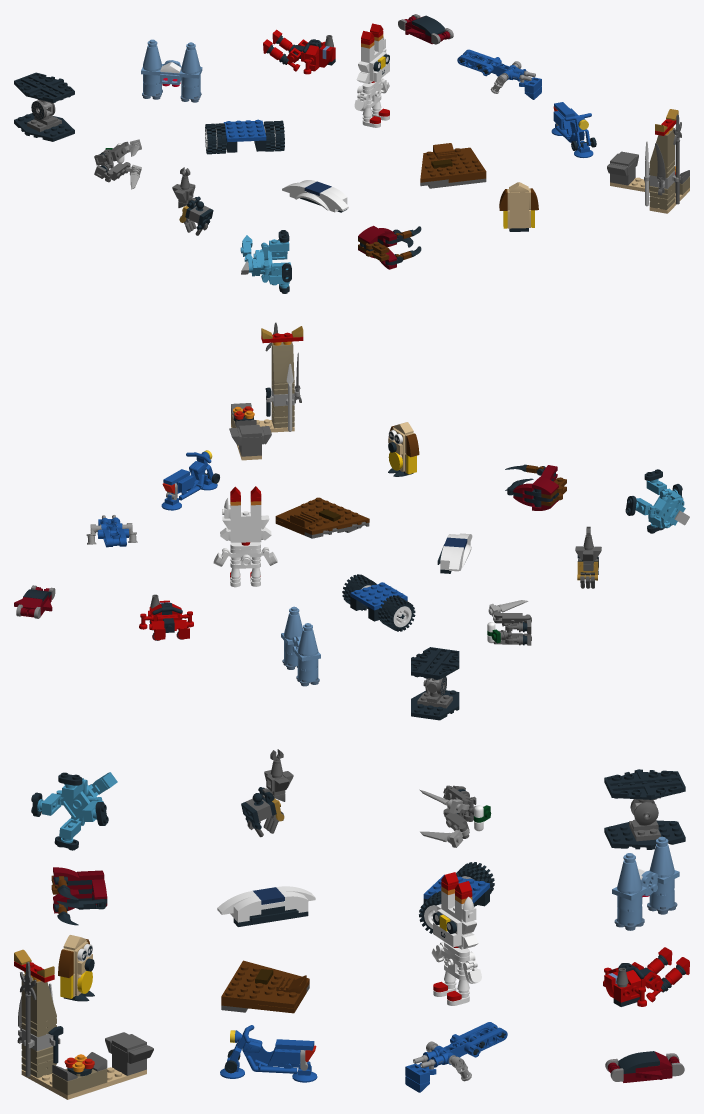
3 views of the same model, one above another, from view 1: azimuth 30°, elevation 25°; view 2: azimuth 150°, elevation 25°; view 3: azimuth 270°, elevation 25° (orthographic). The views are drawn at different scales.
Parts seen in each view (by area): view 1: 3031, 4480c01, 3684a, 43899; view 2: 3684a, 3031, 4480c01; view 3: 4480c01, 3942b (×2), 3684a, 3001, 43899, 3031, 2825.
Part boxes in pixels (x1,y1,x2,y2): 3031: (223,119,266,142); 4480c01: (556,111,591,147); 3684a: (649,128,674,167); 43899: (673,114,681,204); 3684a: (271,342,294,383); 3031: (350,582,407,610); 4480c01: (176,451,213,500); 4480c01: (230,1025,300,1073); 3942b (×2): (617,844,674,893); 3684a: (21,973,56,1023); 3001: (52,1068,107,1095); 43899: (20,962,36,1076); 3031: (423,874,489,902); 2825: (464,1028,507,1057).
Size of the model in its own units: 1046 by 216 by 1078.
